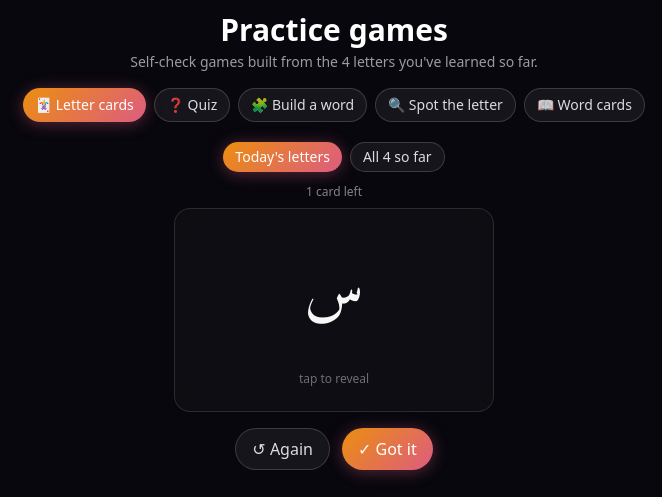
Test: GamePanel gating › switching tabs swaps the active game
The image size is (662, 497).
Expected: the text "1 card left" is shown, [306, 183, 362, 200]
Click the button "❓ Quiz" at [192, 105], box [154, 88, 230, 122]
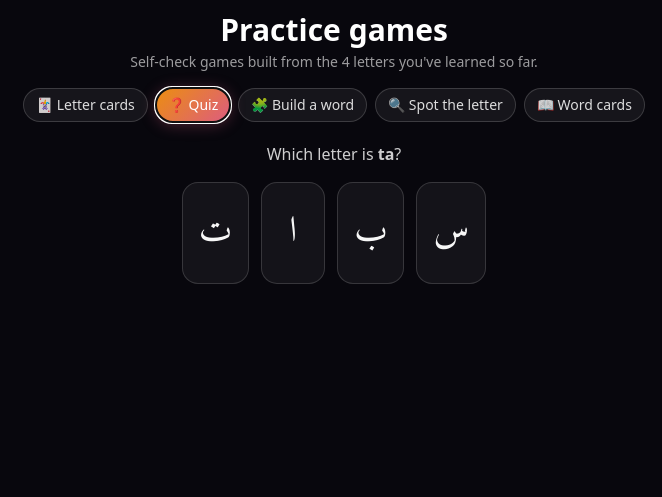
Expected: the text "Which letter is ta?" is shown, [267, 143, 401, 165]
